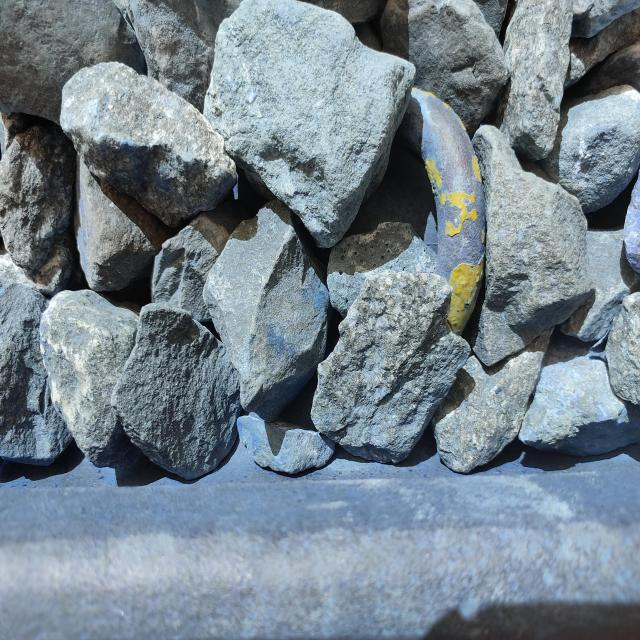Good Fasteners: (345, 89, 486, 330)
